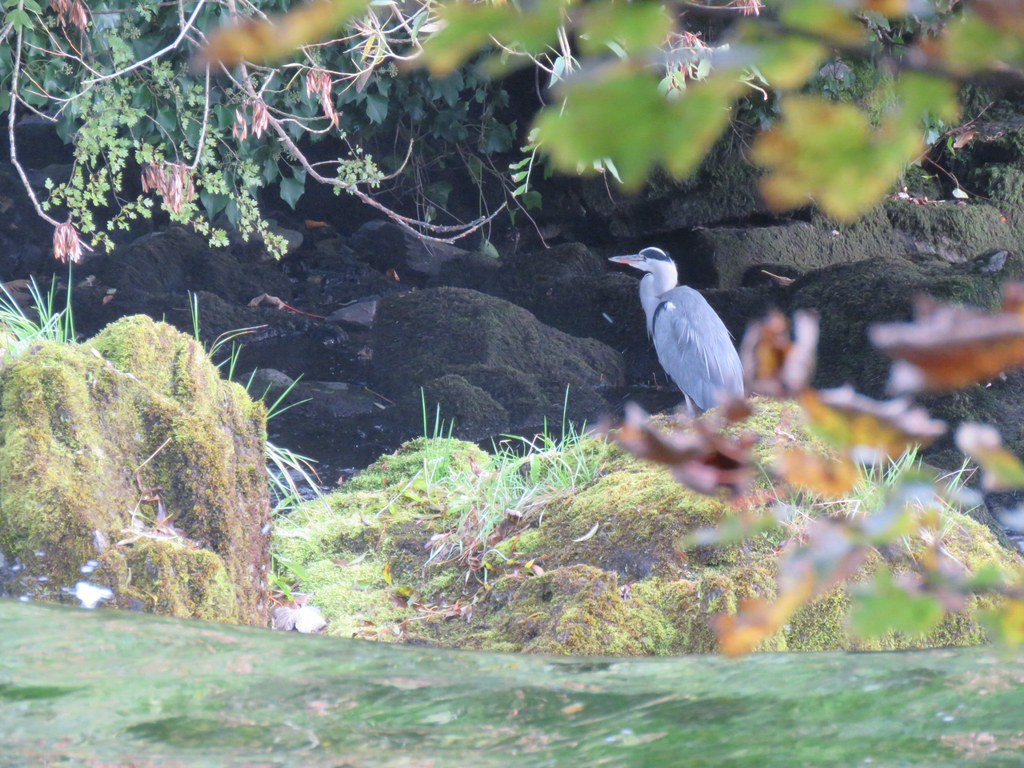heron: (604, 239, 748, 427)
